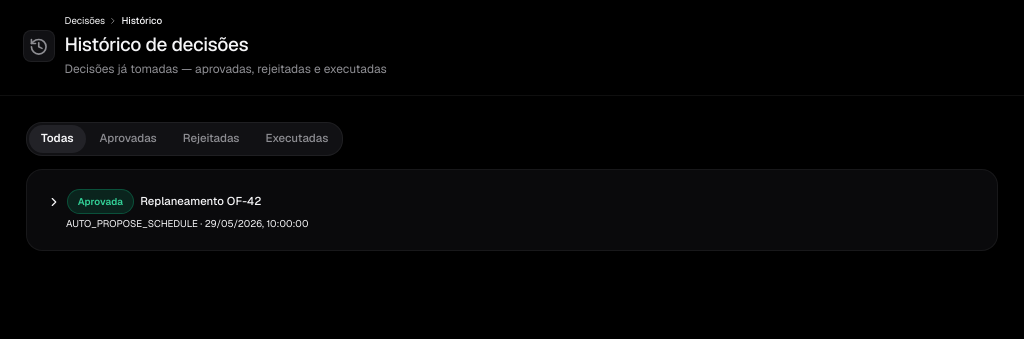
Test: HistoricoTab — DecisionDetail (FE-1 Q.130.D) › renderiza sem crash com resposta {decision, approvals, state_changes}
# Clicar na decisão expande o detalhe
What coordinates should you click on to do the following:
click the text "Replaneamento OF-42"
I would click on:
 (201, 202)
Its box is x1=140 y1=193 x2=261 y2=210.
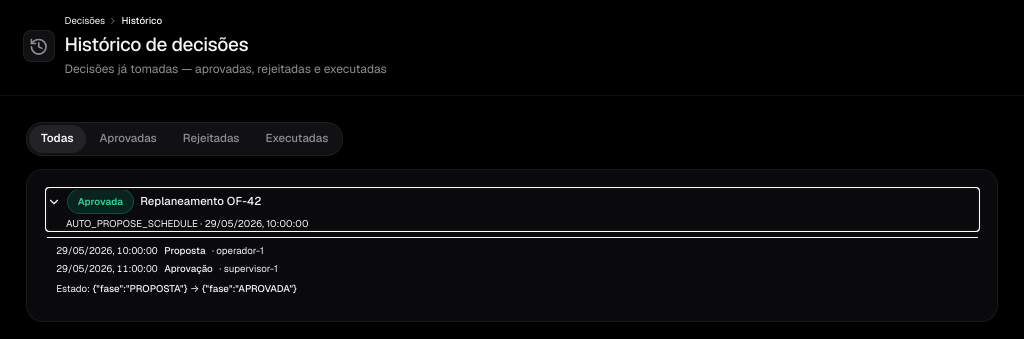
Expected: the text "Proposta" is shown, x1=164 y1=244 x2=206 y2=257
Expected: the text "Aprovação" is shown, x1=164 y1=262 x2=213 y2=275
Expected: the text "· supervisor-1" is shown, x1=219 y1=262 x2=278 y2=275
